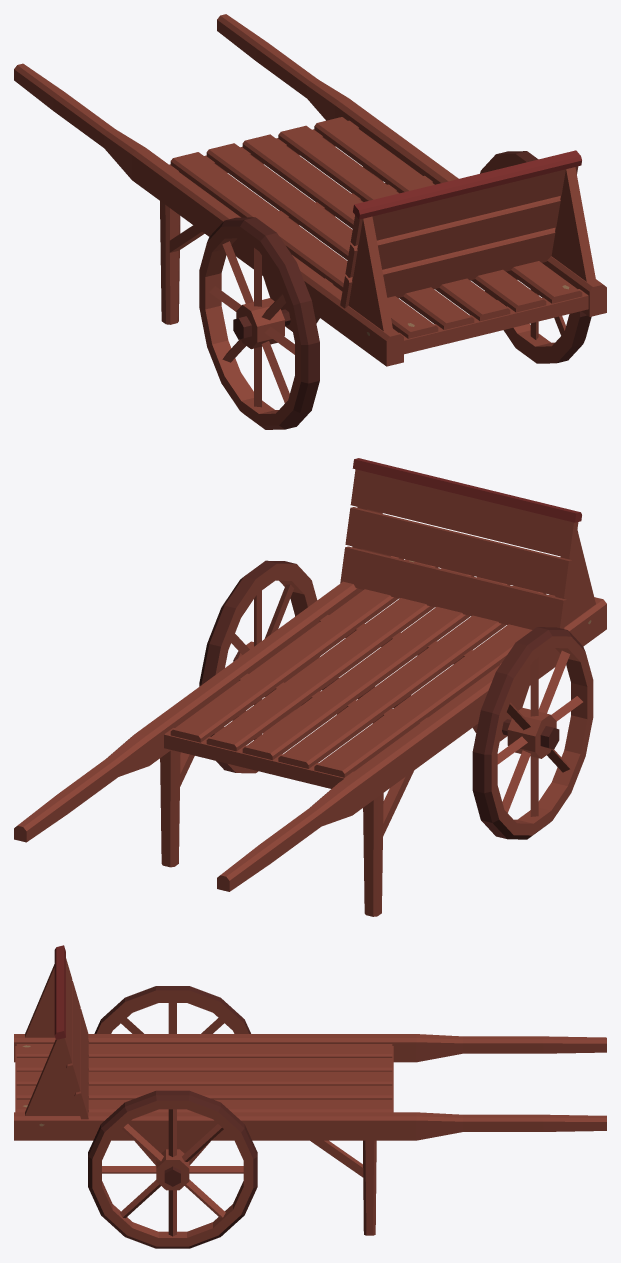
File: platform-barrow-784665.glb
3 views of the same model, one above another, from view 1: azimuth 30°, elevation 25°; view 2: azimuth 150°, elevation 25°; view 3: azimuth 270°, elevation 25° (orthographic). The views are drawn at different scales.
Parts seen in each view (by area): view 1: barrow-body, wheel-r-mesh, wheel-l-mesh; view 2: barrow-body, wheel-r-mesh, wheel-l-mesh; view 3: barrow-body, wheel-l-mesh, wheel-r-mesh.
Part boxes in pixels (x1=…): barrow-body: x1=14, y1=14, x2=606, y2=366; wheel-r-mesh: x1=199, y1=217, x2=319, y2=429; wheel-l-mesh: x1=480, y1=151, x2=591, y2=363; barrow-body: x1=14, y1=458, x2=606, y2=916; wheel-r-mesh: x1=472, y1=627, x2=593, y2=839; wheel-l-mesh: x1=199, y1=560, x2=317, y2=773; barrow-body: x1=14, y1=945, x2=606, y2=1235; wheel-l-mesh: x1=88, y1=1090, x2=257, y2=1248; wheel-r-mesh: x1=94, y1=986, x2=250, y2=1033.
Size of the model in its own units: 1.36 by 1.07 by 2.8.
